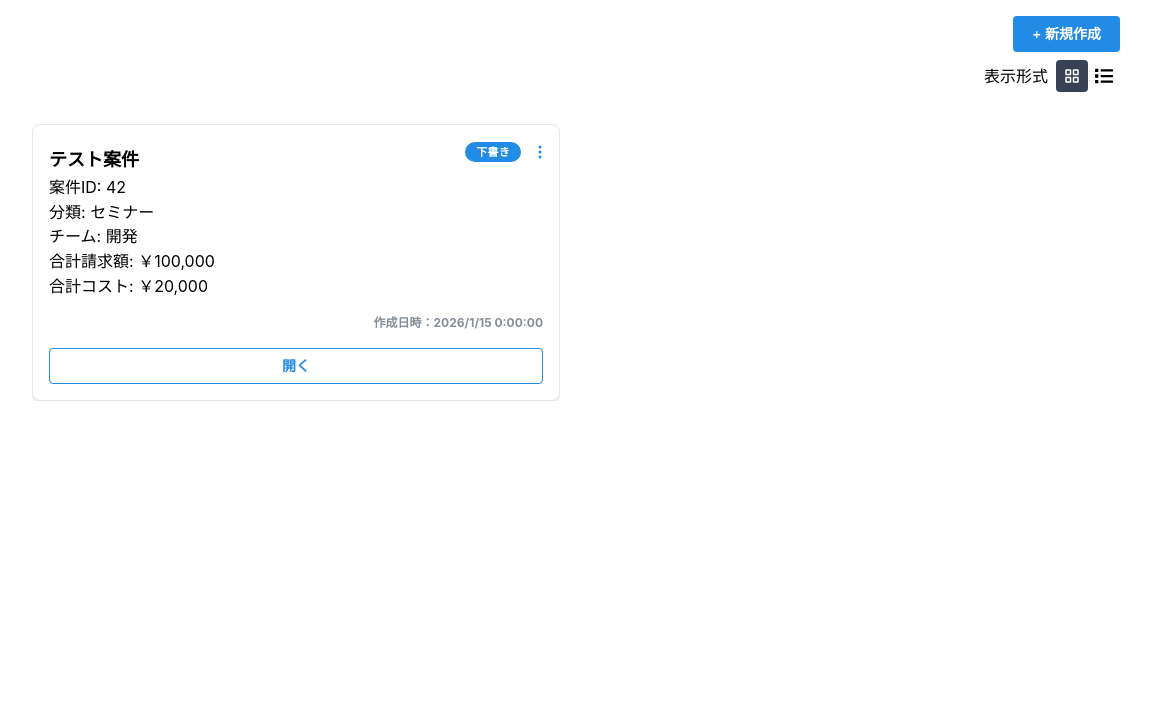
Test: MatterList › variant=user は新規作成ボタン押下で新規作成モーダルが開く
The width and height of the screenshot is (1152, 720).
Click the button "+ 新規作成". click: coordinates (1066, 34)
box: left=1013, top=16, right=1120, bottom=52
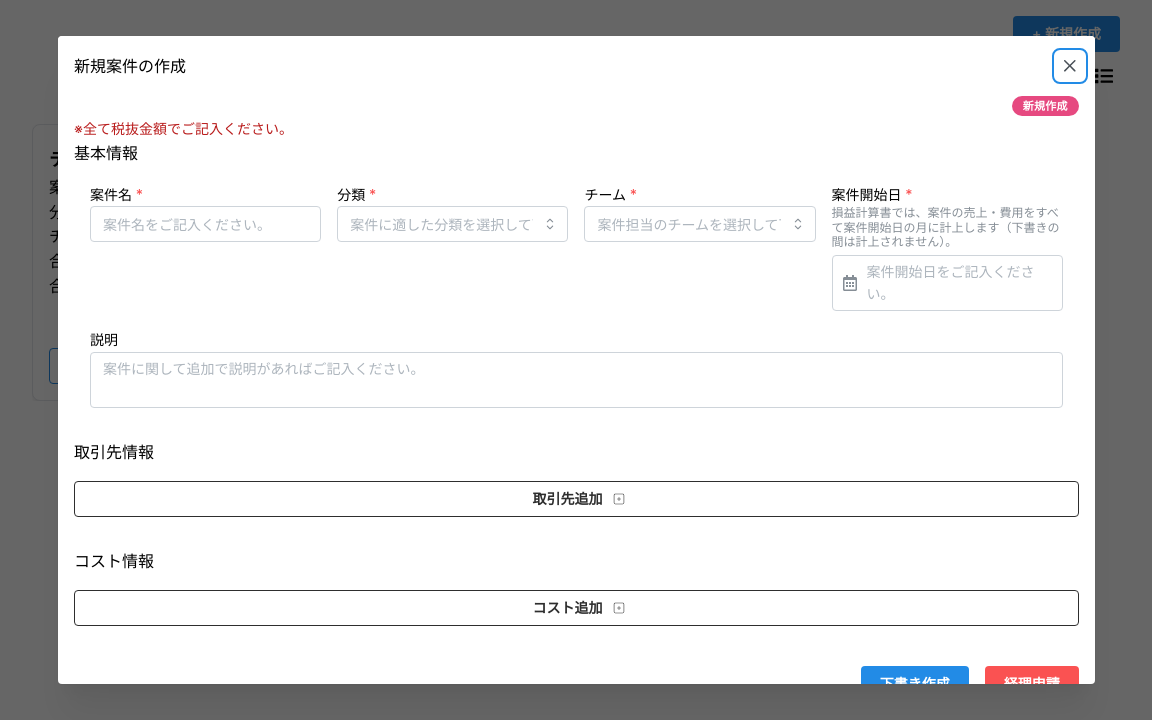
Expected: the heading "新規案件の作成" is shown, left=74, top=58, right=186, bottom=74
Expected: the text "新規作成" is shown, left=1022, top=97, right=1067, bottom=115
